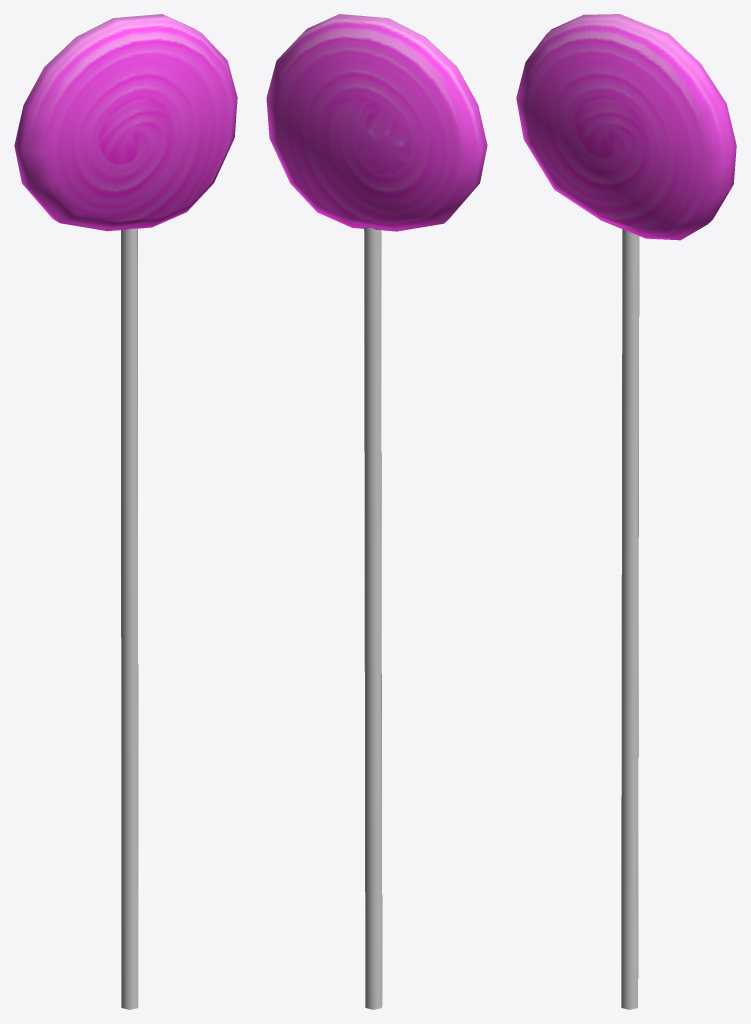
File: BuffetCandy01_8.FBX
The picture shows the model from 3 angles, left to right: view 1: azimuth 30°, elevation 25°; view 2: azimuth 150°, elevation 25°; view 3: azimuth 330°, elevation 25°; orthographic projection.
Parts seen in each view (by area): view 1: BuffetCandy01_8; view 2: BuffetCandy01_8; view 3: BuffetCandy01_8.
Boxes of the visible parts, bbox=[...] form: BuffetCandy01_8: bbox=[14, 14, 237, 1009]; BuffetCandy01_8: bbox=[266, 14, 487, 1009]; BuffetCandy01_8: bbox=[516, 14, 736, 1009].
Size of what is drawn, in the model's own units: 0.0717 by 0.3125 by 0.0143.
